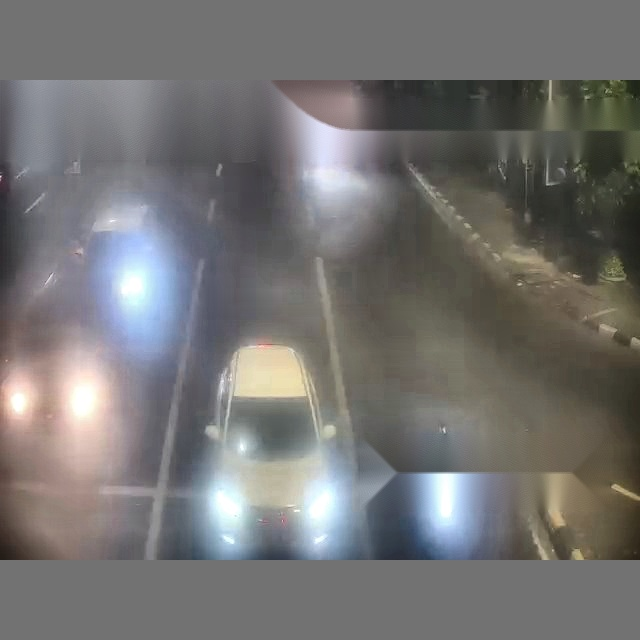Mobil: (206, 346, 346, 557)
